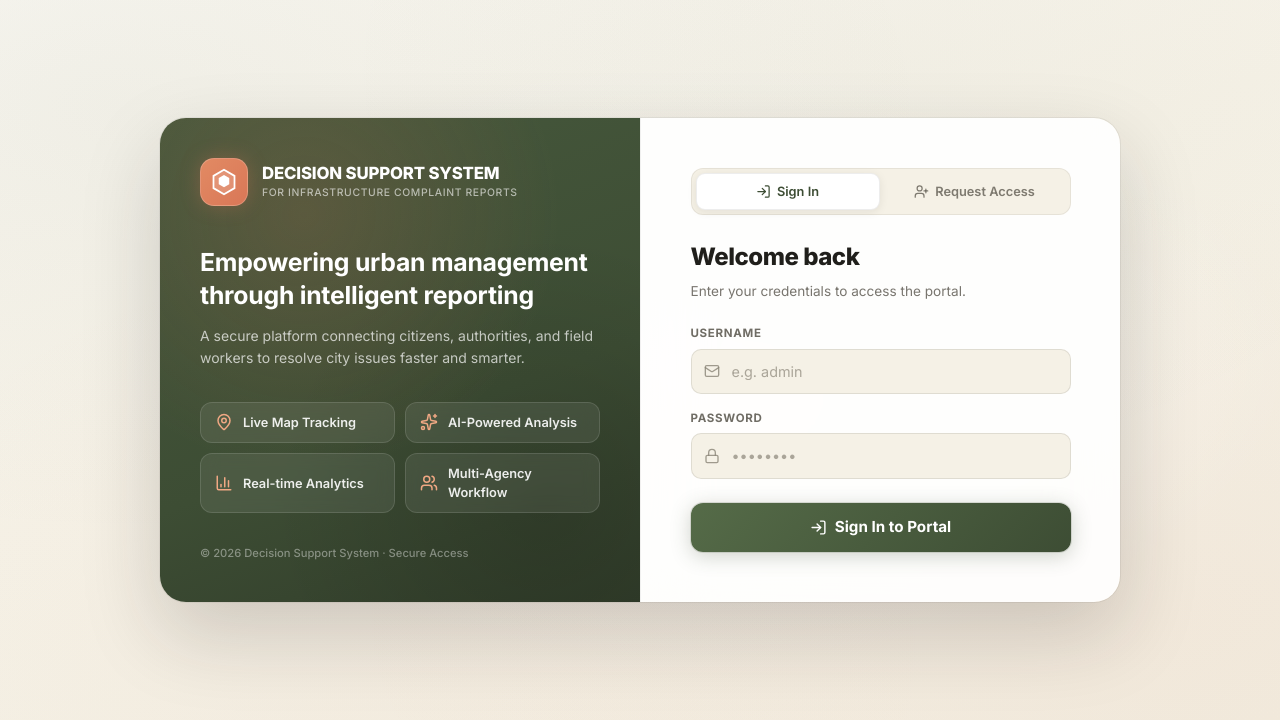
Test case: Decision Support System - E2E Test Suite › Authentication Flow › shows error on invalid credentials
Step 1. Type "wronguser" into the field with placeholder "e.g. admin" → (881, 372), box x1=691 y1=349 x2=1071 y2=395
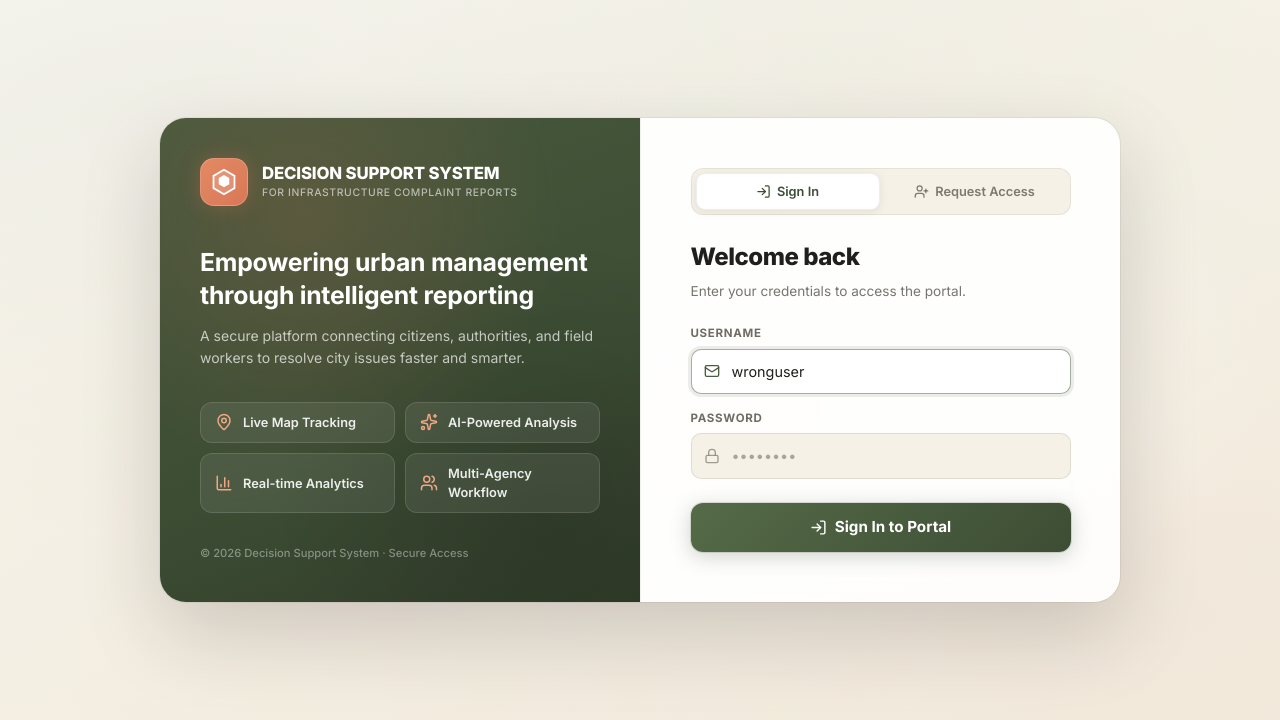
Step 2. Type "wrongpassword" into the password field with placeholder "••••••••" → (881, 456), box x1=691 y1=433 x2=1071 y2=479
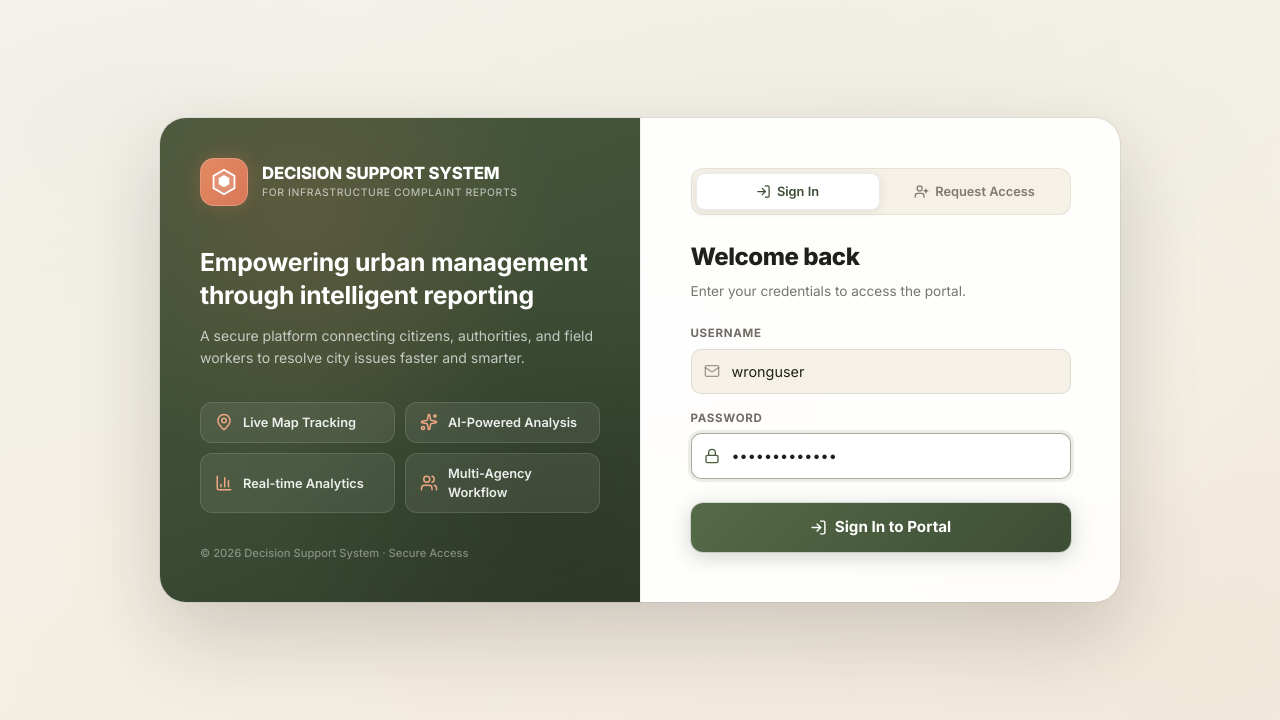
Step 3. Click the submit button → (881, 528), box x1=691 y1=503 x2=1071 y2=552
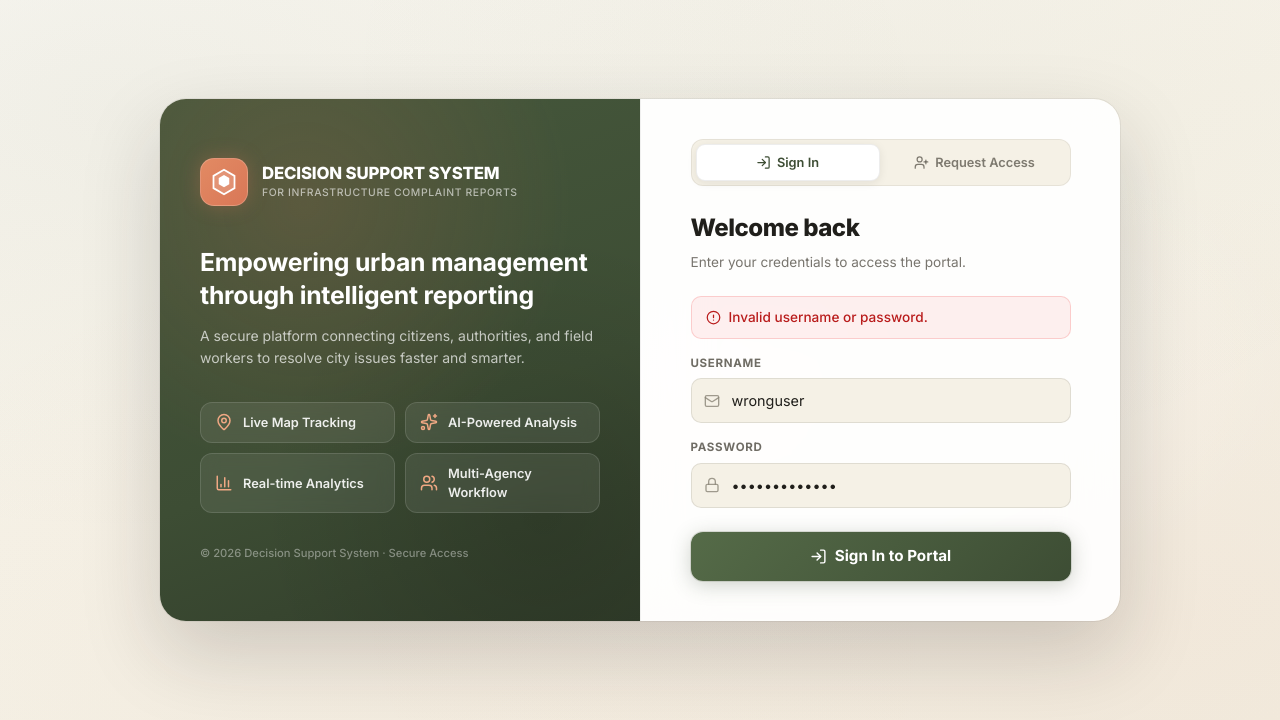
expect the text "Invalid username or password" is shown: met, box x1=729 y1=309 x2=928 y2=325
